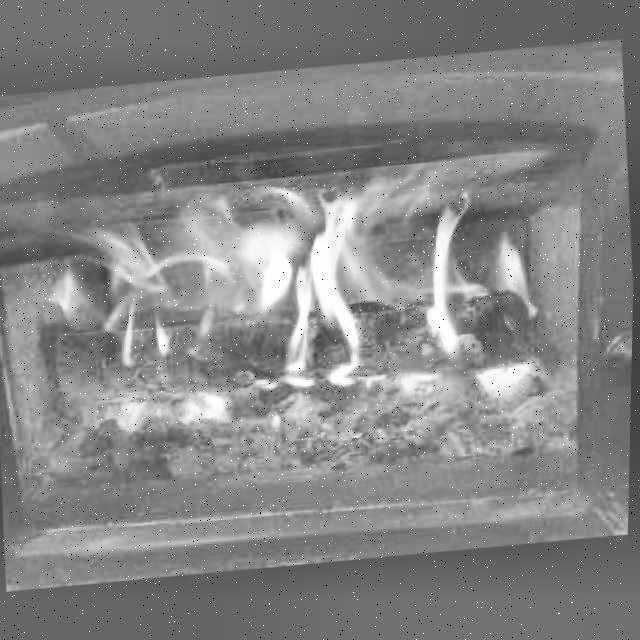Fire: (49, 151, 559, 475)
